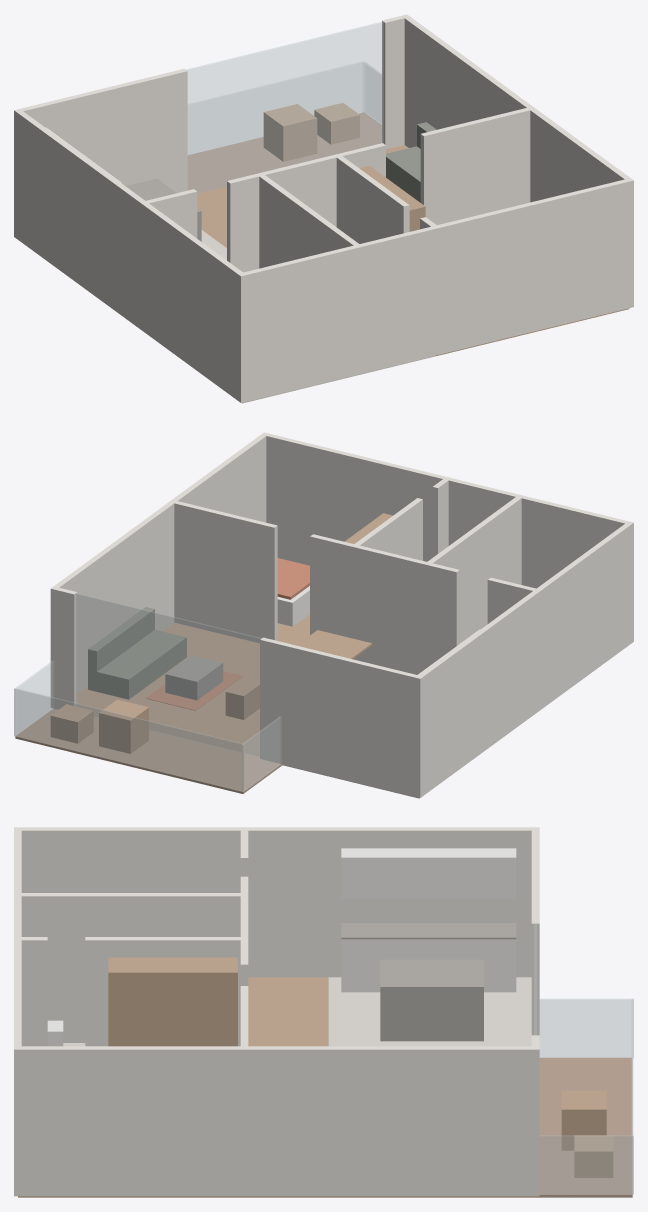
Rendered from tipo-b.glb.
3 views of the same model, one above another, from view 1: azimuth 30°, elevation 25°; view 2: azimuth 150°, elevation 25°; view 3: azimuth 270°, elevation 25° (orthographic). The views are drawn at different scales.
Parts seen in each view (by area): view 1: muros-33, muros-35, vidrios-44, muros-34, muros-32, muros-36, vidrios-45, muros-43, ambiente:terraza-6, muros-41, muros-39, muros-31 (+10 smaller); view 2: muros-35, muros-33, vidrios-44, muros-32, muros-34, muros-36, vidrios-45, ambiente:sala-0, muros-38, ambiente:terraza-6, muros-43, muros-37 (+18 smaller); view 3: muros-34, muros-35, muros-43, ambiente:dormitorio-22, ambiente:terraza-6, ambiente:cocina-16, ambiente:cocina-17, ambiente:cocina-1, ambiente:cocina-14, muros-41, vidrios-46, vidrios-47 (+11 smaller).
Part boxes in pixels (x1,y1,x2,y2): muros-33: (237,178,633,402); muros-35: (14,109,245,402); vidrios-44: (183,21,383,193); muros-34: (402,15,633,220); muros-32: (14,68,187,237); muros-36: (420,106,535,224); vidrios-45: (188,62,362,154); muros-43: (259,175,361,268); ambiente:terraza-6: (187,112,381,193); muros-41: (336,154,409,243); muros-39: (227,174,259,272); muros-31: (382,14,409,149); muros-35: (415,522,633,797); muros-33: (261,432,633,643); vidrios-44: (76,593,261,757); muros-32: (260,637,423,797); muros-34: (52,434,266,692); muros-36: (170,500,277,643); vidrios-45: (14,688,244,791); ambiente:sala-0: (77,622,259,756); muros-38: (351,545,429,674); ambiente:terraza-6: (15,709,282,793); muros-43: (424,496,523,668); muros-37: (310,534,359,659); muros-34: (14,1046,539,1196); muros-35: (14,827,539,977); muros-43: (14,893,248,1042); ambiente:dormitorio-22: (108,957,237,1046); ambiente:terraza-6: (535,1057,632,1197); ambiente:cocina-16: (341,848,516,898); ambiente:cocina-17: (380,959,483,1041); ambiente:cocina-1: (328,977,531,1046); ambiente:cocina-14: (341,939,516,992); muros-41: (85,937,246,1046); vidrios-46: (540,1135,633,1194); vidrios-47: (540,999,633,1057).
Bounding box in the file's own units: 8.12 × 2.55 × 9.58.
